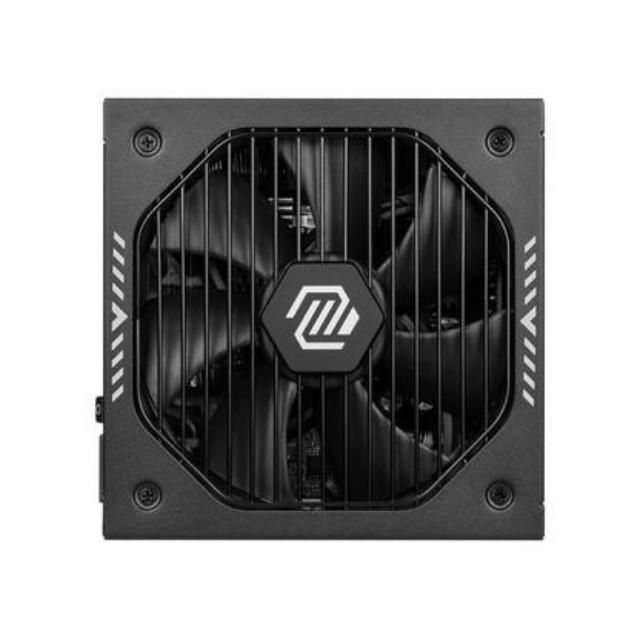PSU: (90, 87, 547, 558)
